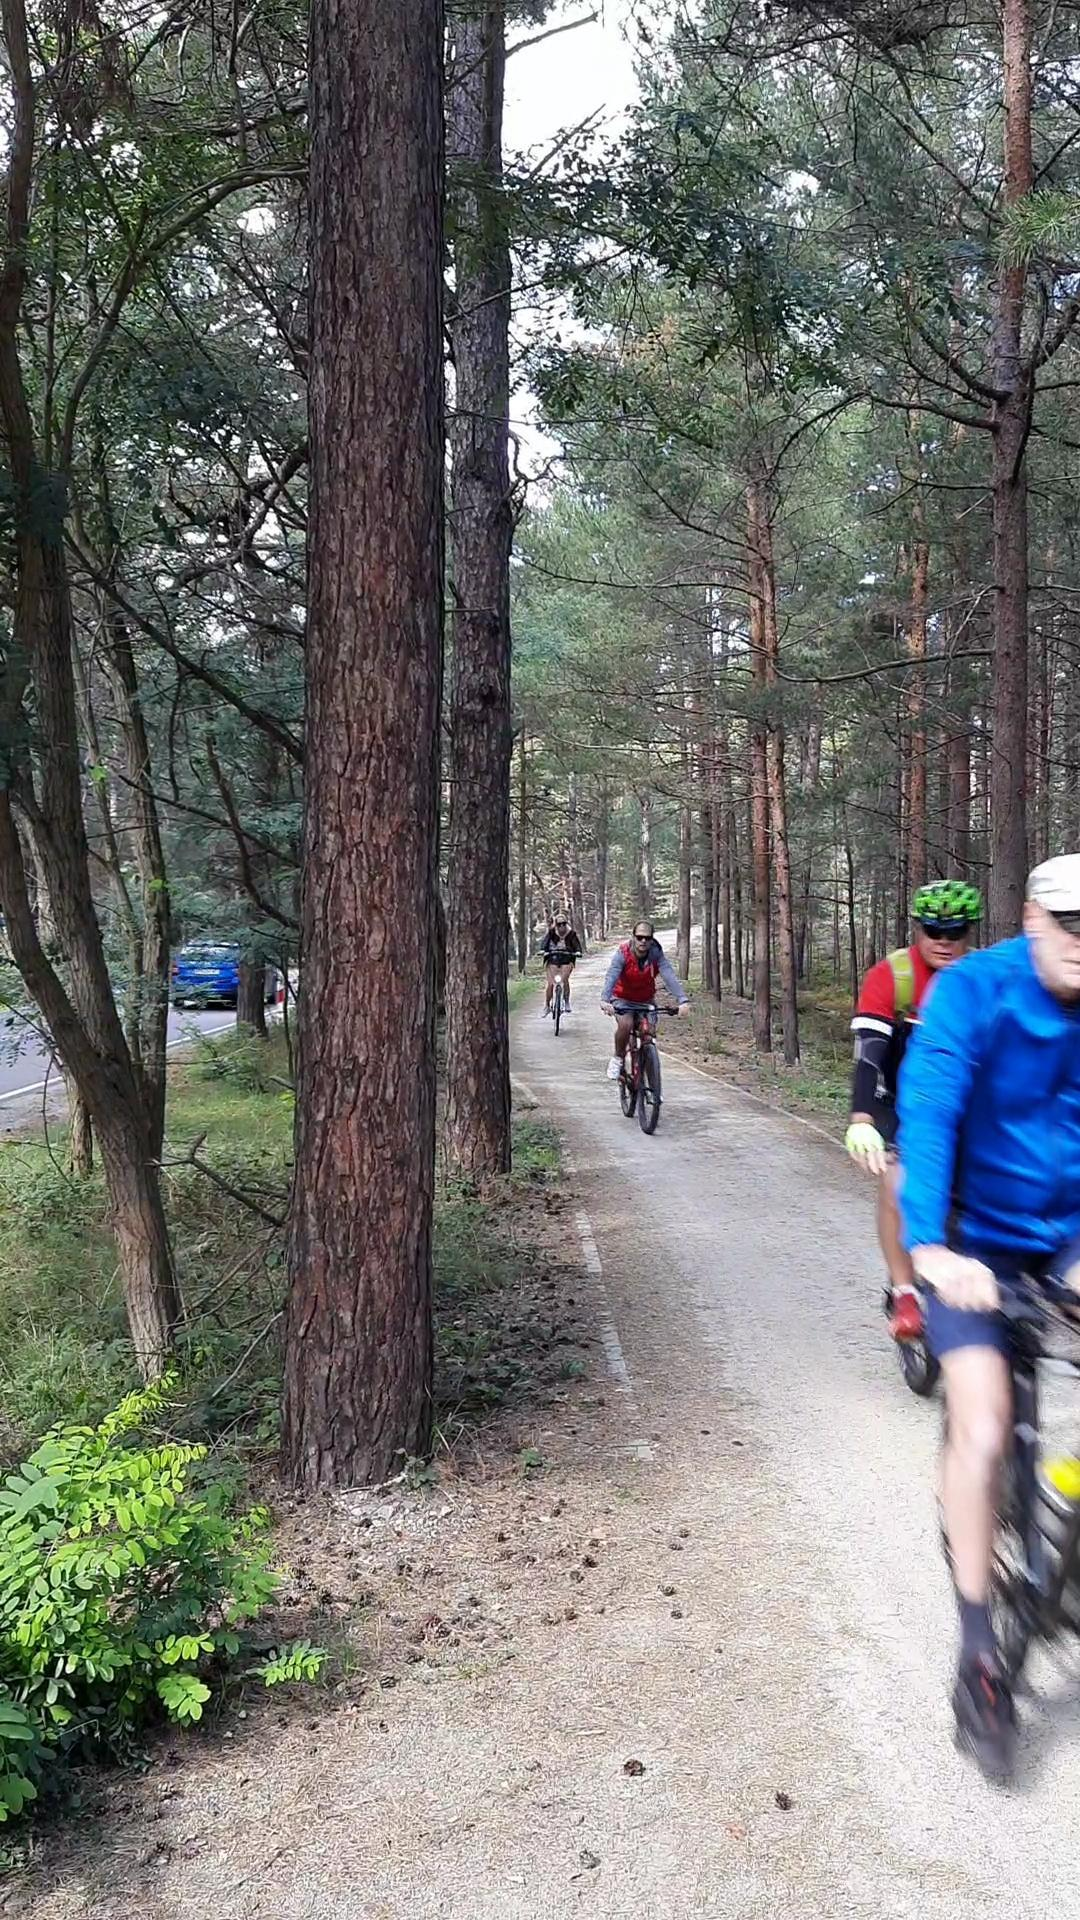cyclist: (906, 831, 1079, 1919), (589, 897, 698, 1146), (533, 899, 581, 1037)
